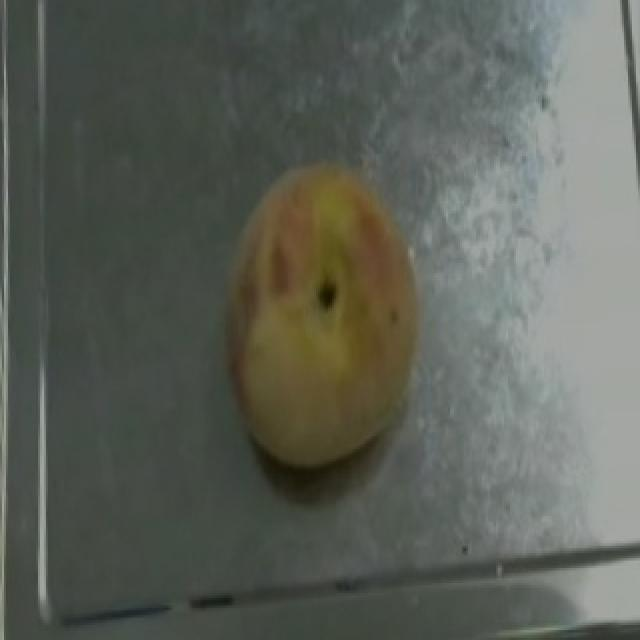Fruit: (204, 149, 446, 481)
